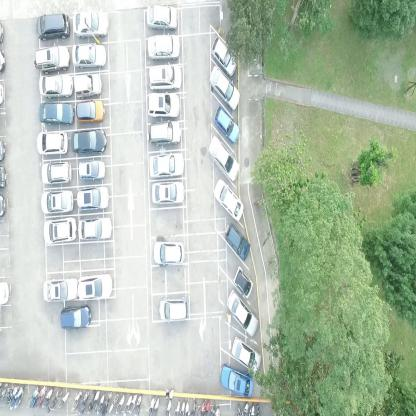car: (208, 135, 240, 183), (208, 66, 240, 111), (228, 288, 258, 336), (214, 179, 244, 222), (228, 336, 261, 374), (218, 364, 253, 398), (32, 43, 70, 74), (210, 35, 237, 75), (224, 222, 251, 262), (212, 106, 240, 144), (72, 11, 109, 39), (146, 32, 180, 62), (78, 271, 112, 301), (70, 128, 107, 155), (35, 12, 70, 40), (146, 120, 182, 147), (148, 152, 185, 178), (38, 72, 72, 100), (43, 276, 79, 302), (42, 218, 78, 244), (148, 63, 182, 90), (147, 91, 180, 118), (78, 215, 112, 241), (76, 186, 109, 212), (72, 43, 106, 68), (40, 189, 74, 214), (153, 239, 185, 265), (146, 4, 178, 30), (40, 159, 72, 185), (38, 103, 74, 126), (60, 304, 91, 330), (158, 297, 190, 322), (36, 130, 68, 155), (76, 98, 105, 125), (151, 181, 185, 204), (232, 265, 254, 300), (73, 73, 101, 99), (78, 159, 106, 182)
